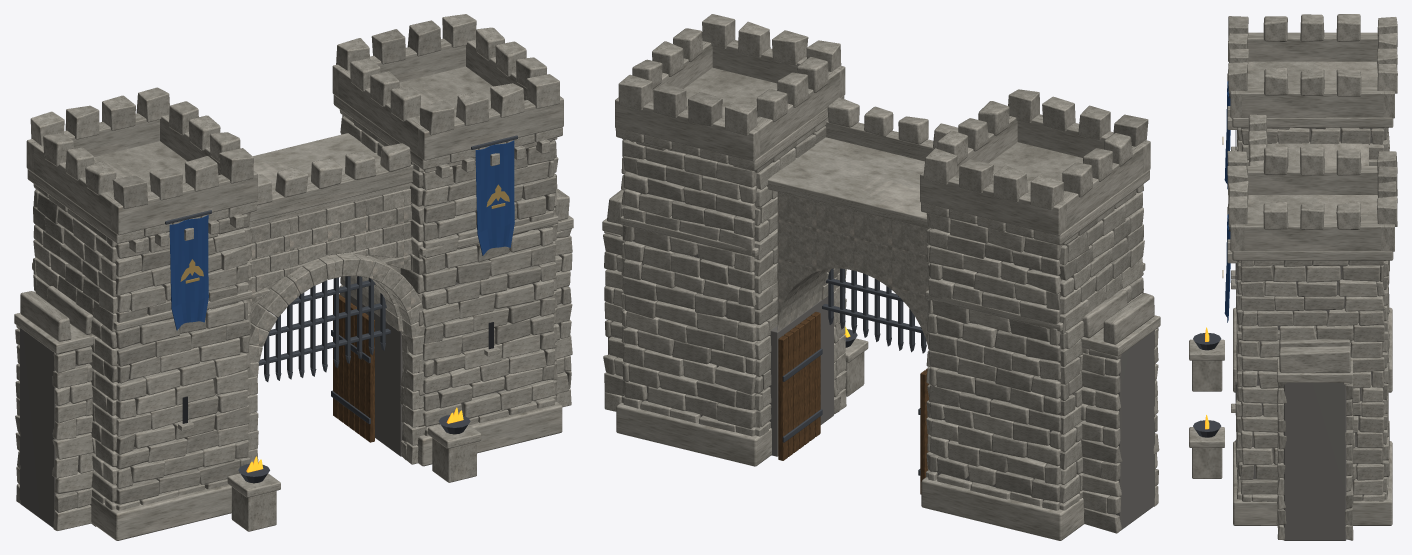
File: ValoriaHeroGate.glb
3 renders of one model, left to right at view 1: azimuth 30°, elevation 25°; view 2: azimuth 150°, elevation 25°; view 3: azimuth 270°, elevation 25°, orthographic. The views are drawn at different scales.
Visible parts, largest first — view 1: Wall socket continuous core, Battered tower foot, Tower parapet base, Tower parapet base.002, Portal crown coping, Royal blue Valoria banner.001, Royal blue Valoria banner, Portal continuous jamb core.001, Battered tower foot.001, Portal defensive parapet, Tower parapet base.001, Tower parapet return (+76 smaller); view 2: Portal crown coping, Wall socket continuous core, Battered tower foot, Battered tower foot.001, Tower parapet base.003, Tower parapet base.001, Portal continuous jamb core.001, Tower parapet base, Tower parapet return, Tower parapet return.002, Tower parapet base.002, Walkable tower terrace.001 (+91 smaller); view 3: Wall socket continuous core.001, Tower parapet return.003, Tower parapet return.001, Tower parapet return, Tower parapet return.002, Battered tower foot.001, Walkable tower terrace, Walkable tower terrace.001, Wall socket crenel.003, Tower crown dressed coping.009, Tower crown dressed coping.004, Portal crown coping (+93 smaller).
Part boxes in pixels (bbox=[...]): Wall socket continuous core: bbox=[20, 328, 85, 527]; Battered tower foot: bbox=[90, 484, 231, 540]; Tower parapet base: bbox=[110, 171, 257, 235]; Tower parapet base.002: bbox=[417, 96, 563, 160]; Portal crown coping: bbox=[248, 133, 412, 227]; Royal blue Valoria banner.001: bbox=[475, 140, 514, 255]; Royal blue Valoria banner: bbox=[169, 215, 208, 330]; Portal continuous jamb core.001: bbox=[344, 292, 403, 456]; Battered tower foot.001: bbox=[417, 402, 562, 466]; Portal defensive parapet: bbox=[250, 164, 413, 221]; Tower parapet base.001: bbox=[26, 113, 159, 172]; Tower parapet return: bbox=[32, 144, 115, 229]; Portal crown coping: bbox=[767, 137, 929, 228]; Wall socket continuous core: bbox=[1095, 330, 1154, 529]; Battered tower foot: bbox=[921, 477, 1084, 540]; Battered tower foot.001: bbox=[616, 402, 771, 466]; Tower parapet base.003: bbox=[615, 97, 761, 161]; Tower parapet base.001: bbox=[920, 172, 1066, 235]; Portal continuous jamb core.001: bbox=[769, 292, 833, 456]; Tower parapet base: bbox=[1017, 114, 1150, 173]; Tower parapet return: bbox=[1061, 144, 1143, 230]; Tower parapet return.002: bbox=[756, 70, 839, 156]; Tower parapet base.002: bbox=[702, 38, 845, 97]; Walkable tower terrace.001: bbox=[683, 67, 777, 118]; Wall socket continuous core.001: bbox=[1283, 382, 1346, 540]; Tower parapet return.003: bbox=[1242, 220, 1383, 251]; Tower parapet return.001: bbox=[1242, 87, 1383, 117]; Tower parapet return: bbox=[1247, 32, 1377, 61]; Tower parapet return.002: bbox=[1247, 166, 1377, 194]; Battered tower foot.001: bbox=[1233, 441, 1392, 525]; Walkable tower terrace: bbox=[1247, 61, 1377, 87]; Walkable tower terrace.001: bbox=[1247, 195, 1377, 220]; Wall socket crenel.003: bbox=[1279, 346, 1350, 372]; Tower crown dressed coping.009: bbox=[1232, 251, 1393, 260]; Tower crown dressed coping.004: bbox=[1232, 117, 1393, 127]; Portal crown coping: bbox=[1267, 141, 1368, 165].
Size of the model in its own units: 11.58 by 7.65 by 4.52.
14 materials, 8 textured.
